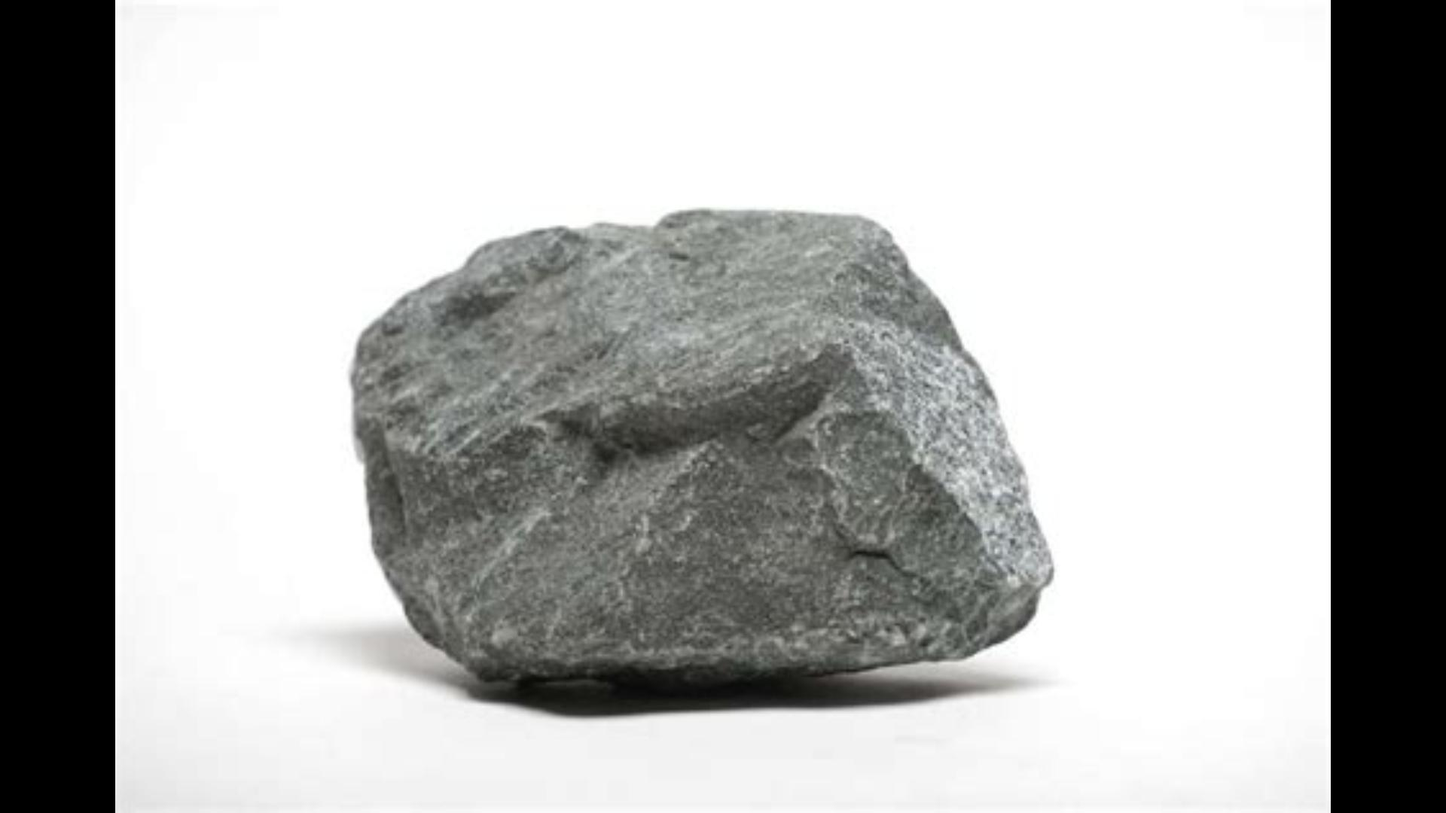rock: (354, 210, 1049, 680)
